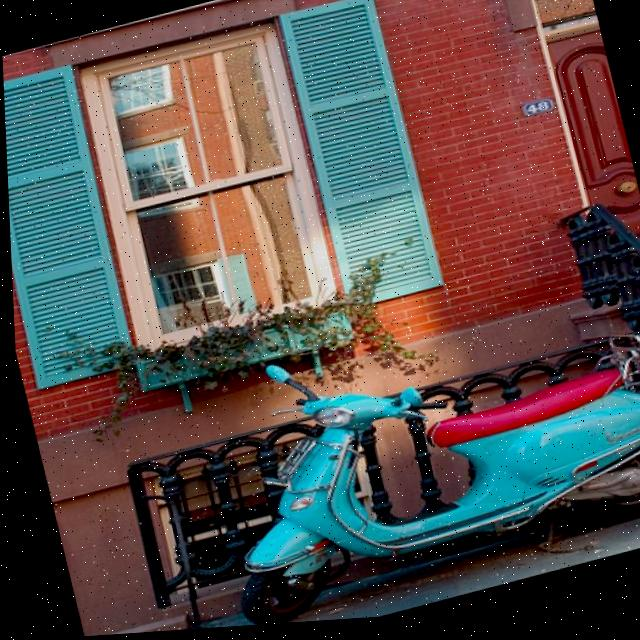motorcycle: (176, 256, 640, 629)
